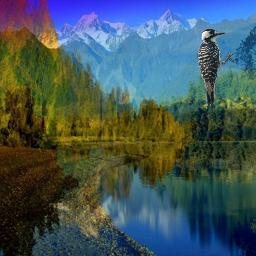Woodpecker: (196, 28, 237, 110)
